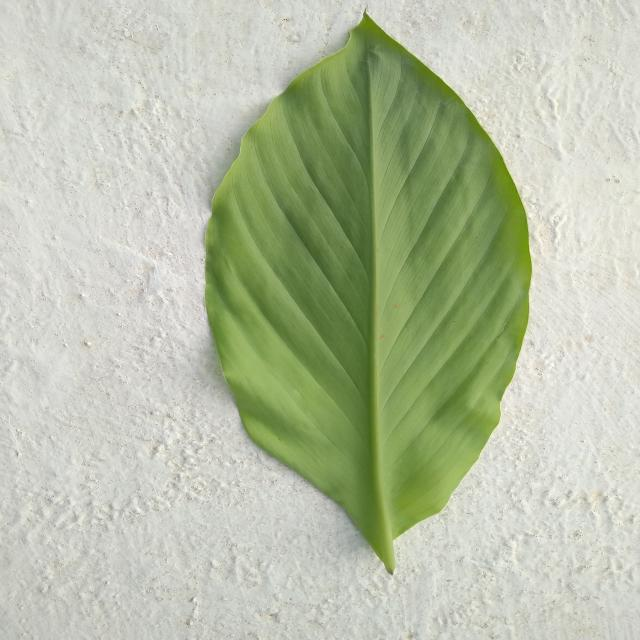turmeric: (207, 16, 531, 545)
